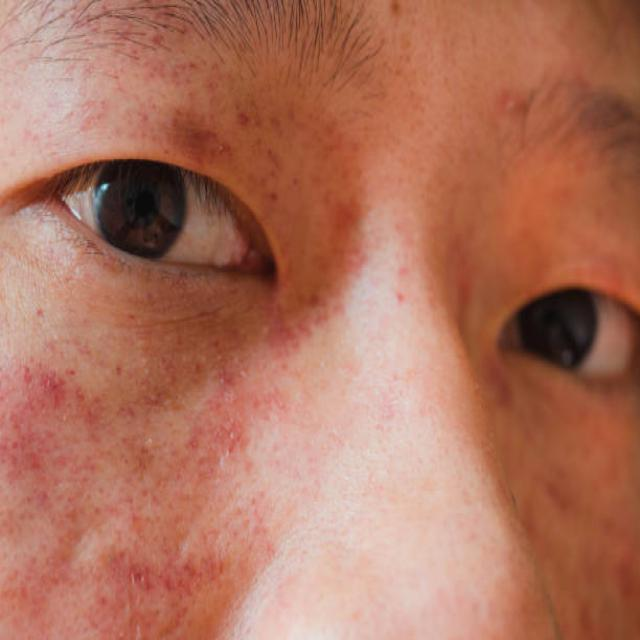Eczema: (13, 361, 220, 632)
